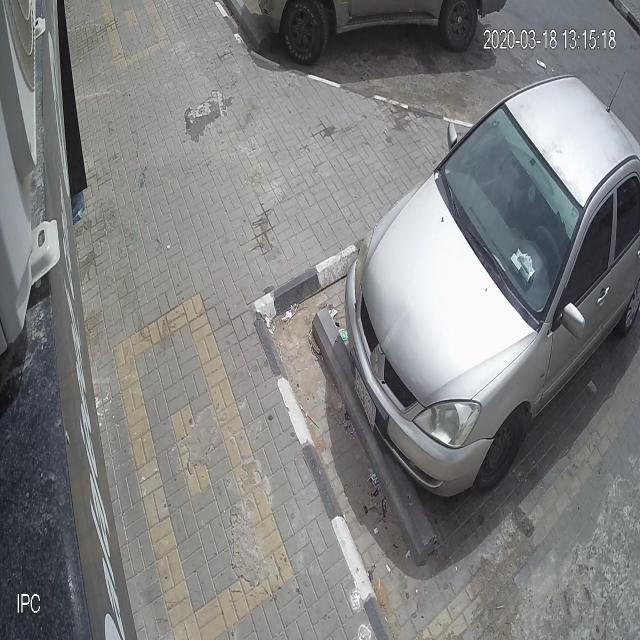license_plate: (353, 366, 376, 430)
